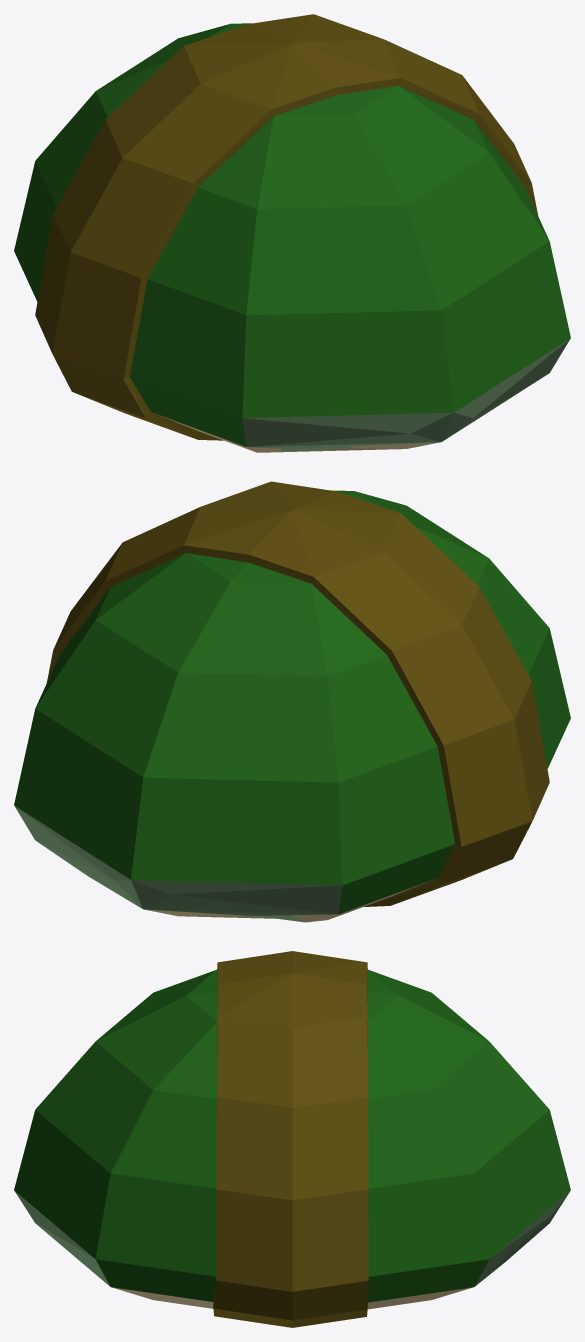
The model's file is Shell.fbx.
3 views of the same model, one above another, from view 1: azimuth 30°, elevation 25°; view 2: azimuth 150°, elevation 25°; view 3: azimuth 270°, elevation 25° (orthographic). The views are drawn at different scales.
Parts seen in each view (by area): view 1: Shell; view 2: Shell; view 3: Shell.
Boxes of the visible parts, x1,y1,x2,y2 form: Shell: (14, 14, 570, 452); Shell: (14, 481, 570, 922); Shell: (14, 951, 570, 1327).
Size of the model in its own units: 2.06 by 1.48 by 2.4.
